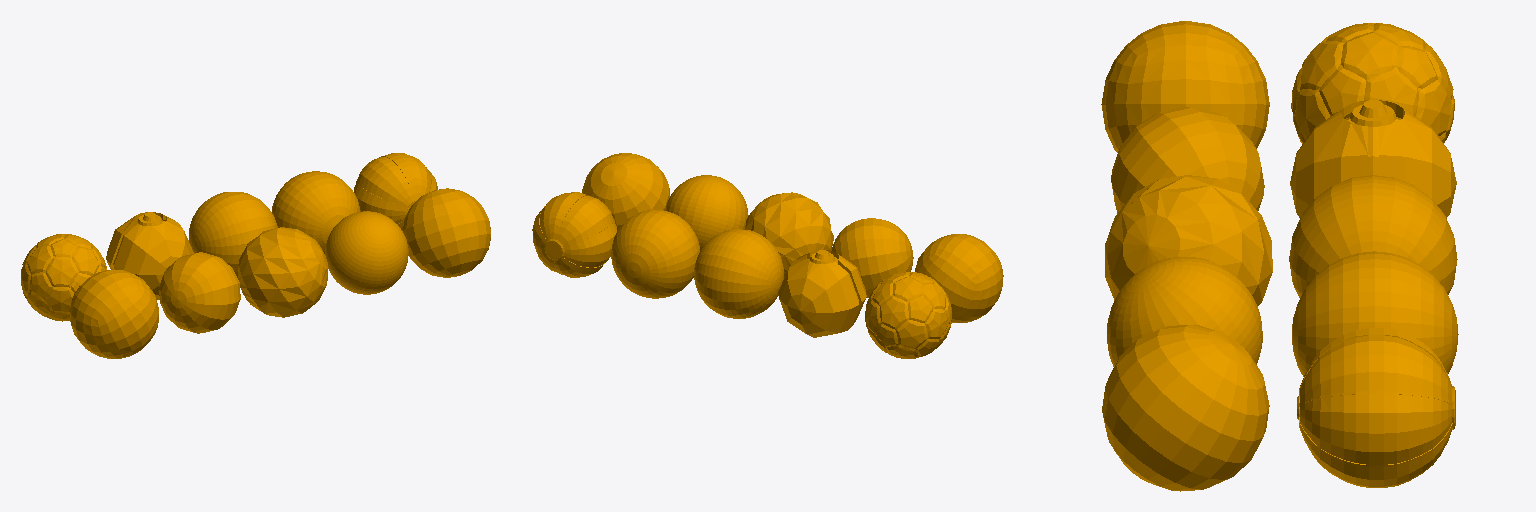
robot.urdf — Balls:
<?xml version="1.0"?>
<robot name="Balls">
  <link name="Balls">
    <visual>
      <origin xyz="0.0 0.0 0.0"/>
      <geometry>
        <mesh filename="Balls.obj" scale="0.06 0.06 0.06"/>
      </geometry>
    </visual>
    <collision>
      <origin xyz="0.0 0.0 0.0"/>
      <geometry>
        <mesh filename="Balls.obj" scale="0.06 0.06 0.06"/>
      </geometry>
    </collision>
    <inertial>
      <mass value="0.3"/>
      <inertia ixx="0.0001" ixy="0.0" ixz="0.0" iyy="0.0001" iyz="0.0" izz="0.0001"/>
    </inertial>
  </link>
</robot>

--- Render facts (derived) ---
The picture shows the robot from 3 angles, left to right: view 1: azimuth 30°, elevation 25°; view 2: azimuth 150°, elevation 25°; view 3: azimuth 270°, elevation 25°; orthographic projection.
Robot: Balls — 1 links, 0 joints (none); root link Balls; default pose: all joints at 0.
Visible links, largest first — view 1: Balls; view 2: Balls; view 3: Balls.
Boxes of the visible links, bbox=[...] form: Balls: bbox=[21, 153, 490, 358]; Balls: bbox=[532, 153, 1003, 358]; Balls: bbox=[1101, 21, 1458, 491].
Size in the robot's own frame: 0.0594 by 0.0239 by 0.0115 metres.
Meshes: 1 distinct files referenced, 1 mesh visuals loaded (1 OBJ).